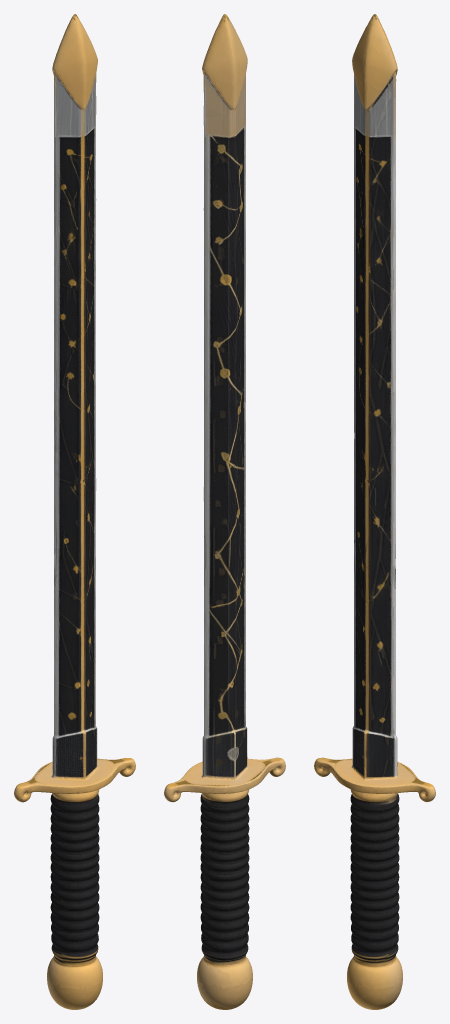
File: sword.glb
3 views of the same model, side by side, from view 1: azimuth 30°, elevation 25°; view 2: azimuth 210°, elevation 25°; view 3: azimuth 330°, elevation 25° (orthographic).
Size of the model in its own units: 0.2412 by 1.9 by 0.1196.
1 material, 1 textured.
